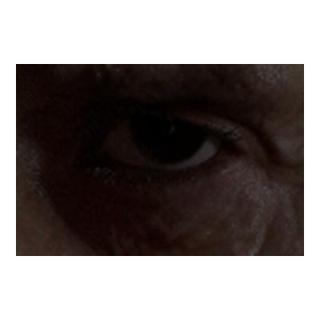pupil: (152, 108, 184, 140)
